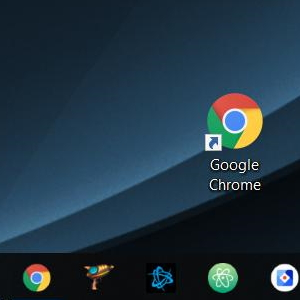chrome: (205, 93, 262, 151)
